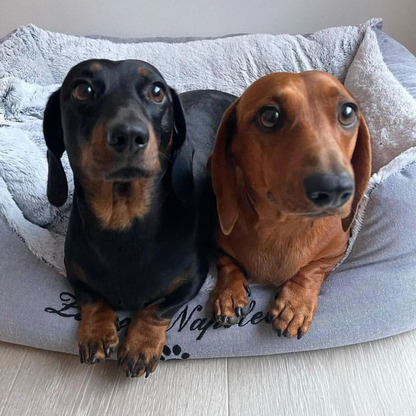dachshund: (219, 70, 385, 336), (55, 60, 185, 339)
